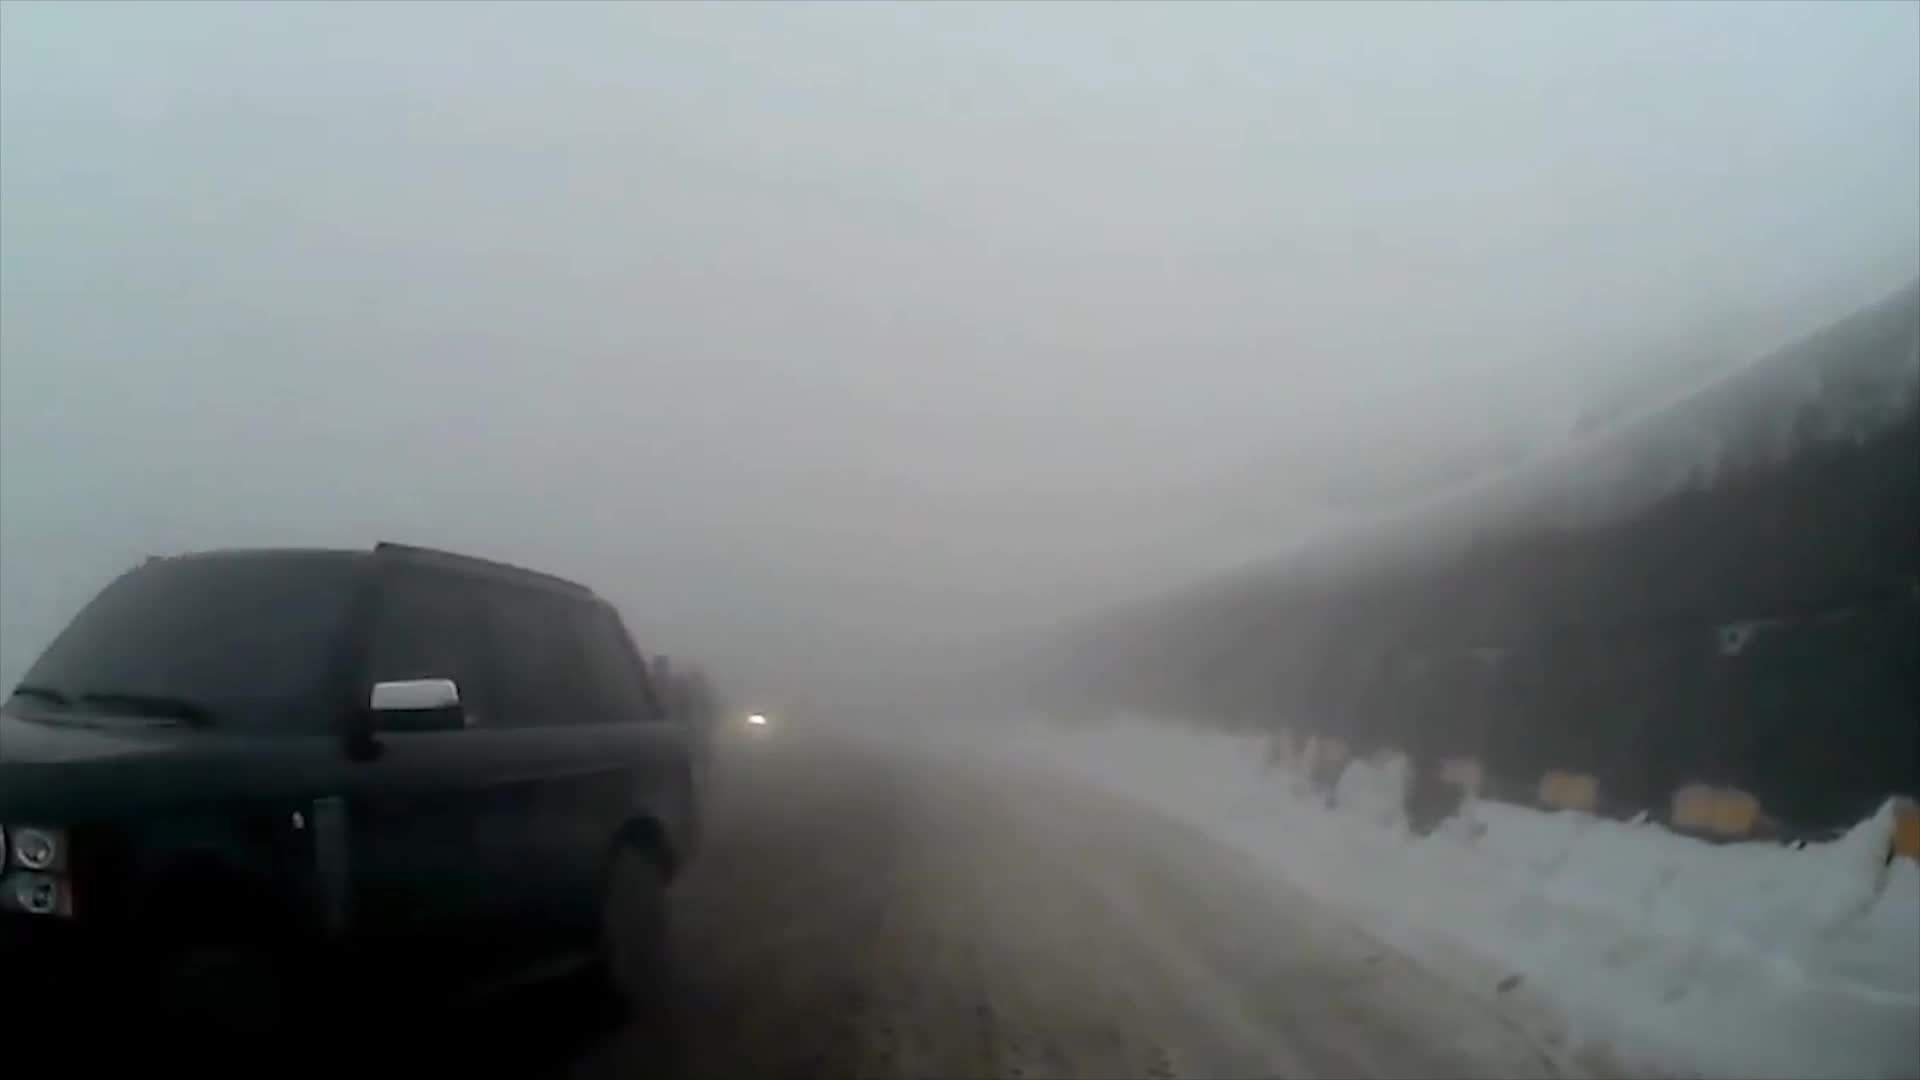vehicle: (0, 537, 702, 1080)
